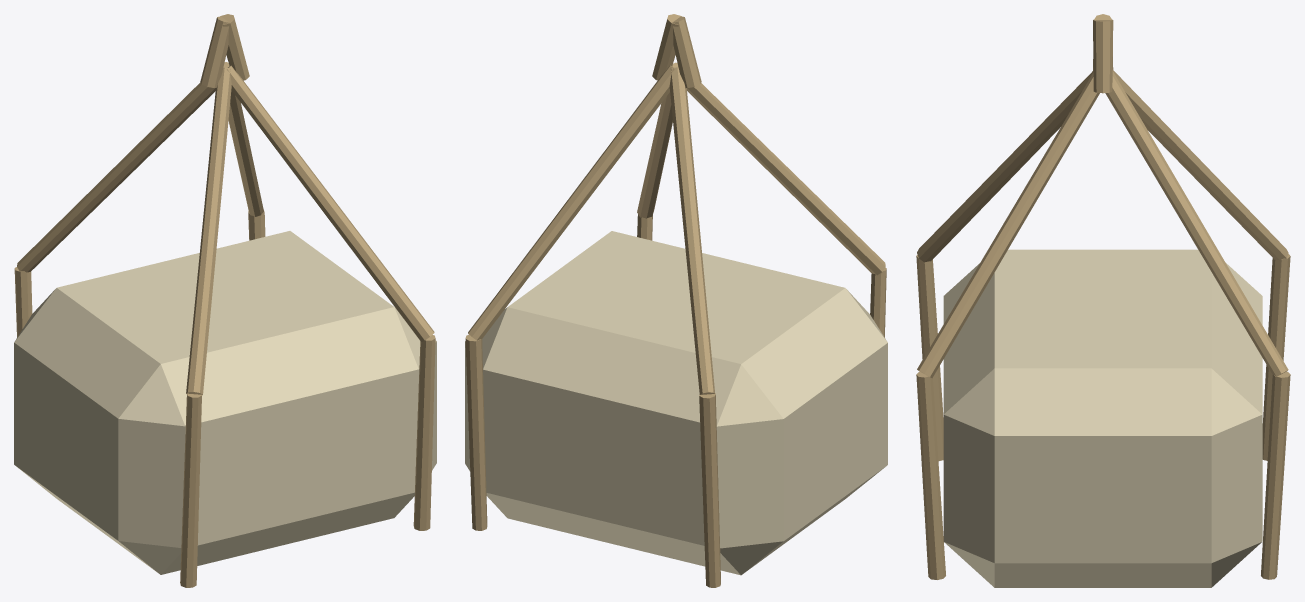
3 renders of one model, left to right at view 1: azimuth 30°, elevation 25°; view 2: azimuth 150°, elevation 25°; view 3: azimuth 270°, elevation 25°, orthographic. The views are drawn at different scales.
Parts seen in each view (by area): view 1: CE-036 Master-eye cargo lifting sling batched; view 2: CE-036 Master-eye cargo lifting sling batched; view 3: CE-036 Master-eye cargo lifting sling batched.
Part boxes in pixels (x1,y1,x2,y2): CE-036 Master-eye cargo lifting sling batched: (14, 14, 436, 587); CE-036 Master-eye cargo lifting sling batched: (465, 14, 887, 587); CE-036 Master-eye cargo lifting sling batched: (916, 14, 1290, 587).
Bounding box in the file's own units: 0.6 × 0.8842 × 0.5867.
